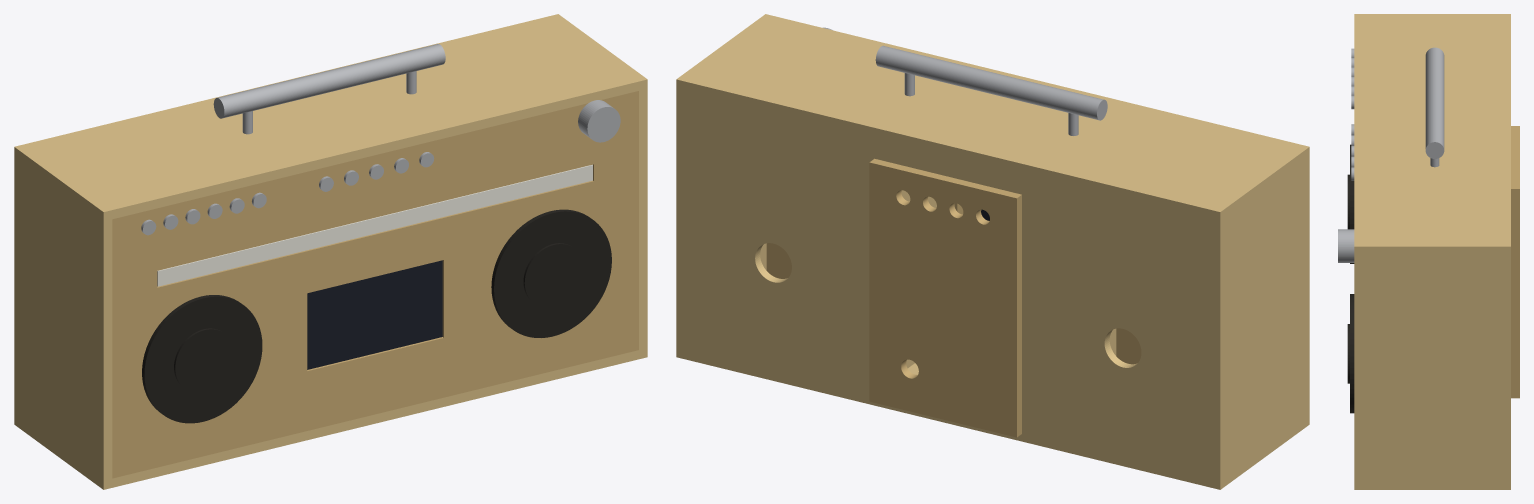
File: boombox-mk1.dae
The picture shows the model from 3 angles, left to right: view 1: azimuth 30°, elevation 25°; view 2: azimuth 150°, elevation 25°; view 3: azimuth 270°, elevation 25°; orthographic projection. The views are drawn at different scales.
Visible parts, largest first — view 1: P5_baffle, P1_top, P3_side_L, DRV_R, DRV_L, SCREEN, A1_diffuser, P2_bottom, H1_handle, P4_side_R, BUTTONS, KNOB; view 2: P6_back, P1_top, P9_door, P3_side_L, H1_handle, P2_bottom, P4_side_R, P5_baffle; view 3: P1_top, P4_side_R, P9_door, H1_handle, P2_bottom, DRV_R, KNOB, DRV_L, BUTTONS.
Boxes of the visible parts, x1=… form: P5_baffle: x1=112, y1=91, x2=638, y2=478; P1_top: x1=14, y1=14, x2=647, y2=221; P3_side_L: x1=14, y1=156, x2=112, y2=480; DRV_R: x1=491, y1=209, x2=611, y2=337; DRV_L: x1=142, y1=295, x2=262, y2=423; SCREEN: x1=307, y1=260, x2=442, y2=369; A1_diffuser: x1=157, y1=164, x2=592, y2=286; P2_bottom: x1=14, y1=348, x2=647, y2=489; H1_handle: x1=213, y1=44, x2=445, y2=134; P4_side_R: x1=639, y1=89, x2=647, y2=349; BUTTONS: x1=141, y1=152, x2=434, y2=235; KNOB: x1=578, y1=100, x2=620, y2=142; P6_back: x1=685, y1=91, x2=1211, y2=478; P1_top: x1=676, y1=14, x2=1309, y2=221; P9_door: x1=869, y1=158, x2=1021, y2=437; P3_side_L: x1=1211, y1=156, x2=1309, y2=480; H1_handle: x1=875, y1=45, x2=1107, y2=135; P2_bottom: x1=676, y1=348, x2=1309, y2=489; P4_side_R: x1=676, y1=89, x2=766, y2=349; P5_baffle: x1=766, y1=203, x2=1141, y2=364; P1_top: x1=1354, y1=14, x2=1510, y2=254; P4_side_R: x1=1354, y1=254, x2=1510, y2=481; P9_door: x1=1511, y1=126, x2=1519, y2=398; H1_handle: x1=1425, y1=47, x2=1444, y2=167; P2_bottom: x1=1354, y1=482, x2=1510, y2=489; DRV_R: x1=1347, y1=294, x2=1354, y2=413; KNOB: x1=1338, y1=229, x2=1354, y2=262; DRV_L: x1=1347, y1=144, x2=1354, y2=263; BUTTONS: x1=1351, y1=48, x2=1354, y2=180.
Bounding box in the file's own units: 738 × 244 × 422.
